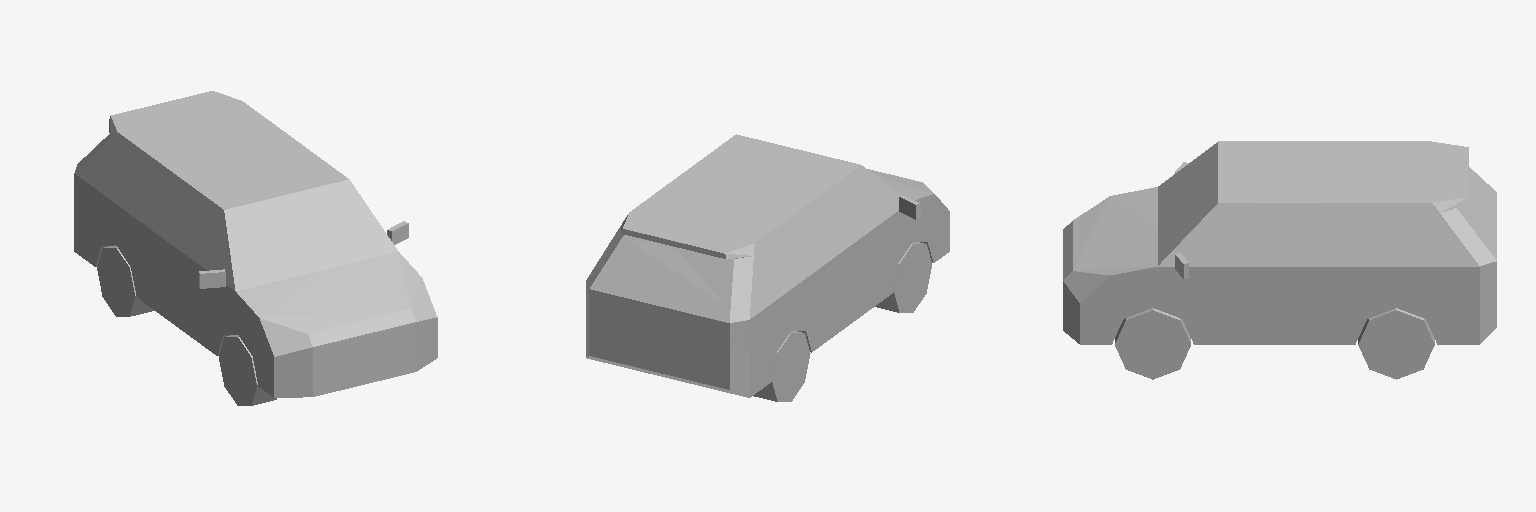
Rendered from suv_red.obj.
3 renders of one model, left to right at view 1: azimuth 30°, elevation 25°; view 2: azimuth 150°, elevation 25°; view 3: azimuth 270°, elevation 25°, orthographic.
Visible parts, largest first — view 1: SUV_01_Red, Wheel_FR, Wheel_RR; view 2: SUV_01_Red, Wheel_FR, Wheel_RR; view 3: SUV_01_Red, Wheel_FL, Wheel_RL.
Boxes of the visible parts, box(x1,y1,x2,y2) form: SUV_01_Red: box(74, 91, 437, 397); Wheel_FR: box(219, 335, 276, 405); Wheel_RR: box(97, 245, 154, 316); SUV_01_Red: box(586, 134, 949, 397); Wheel_FR: box(875, 242, 931, 312); Wheel_RR: box(753, 331, 810, 401); SUV_01_Red: box(1063, 141, 1496, 344); Wheel_FL: box(1115, 308, 1190, 379); Wheel_RL: box(1358, 308, 1434, 379).
Bounding box in the file's own units: 1.06 × 0.8172 × 1.92.